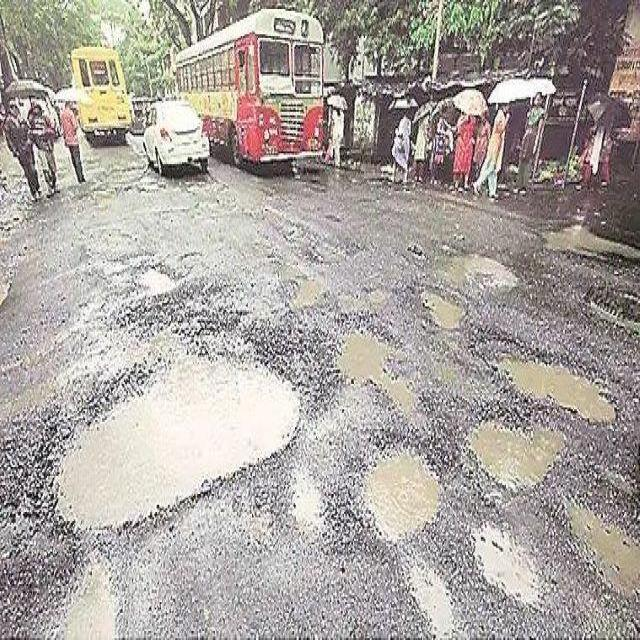lubang: (44, 339, 299, 582), (0, 406, 75, 640), (286, 402, 375, 578), (461, 502, 551, 620), (494, 350, 615, 431), (558, 479, 636, 595), (359, 440, 439, 541), (325, 323, 425, 402), (529, 200, 640, 269), (459, 406, 550, 490), (47, 548, 127, 638), (122, 292, 255, 342), (575, 256, 640, 347), (400, 550, 457, 638), (433, 240, 513, 297), (282, 218, 351, 272), (418, 281, 472, 337), (132, 261, 174, 301), (285, 272, 321, 312), (81, 185, 129, 212), (342, 227, 371, 259)
